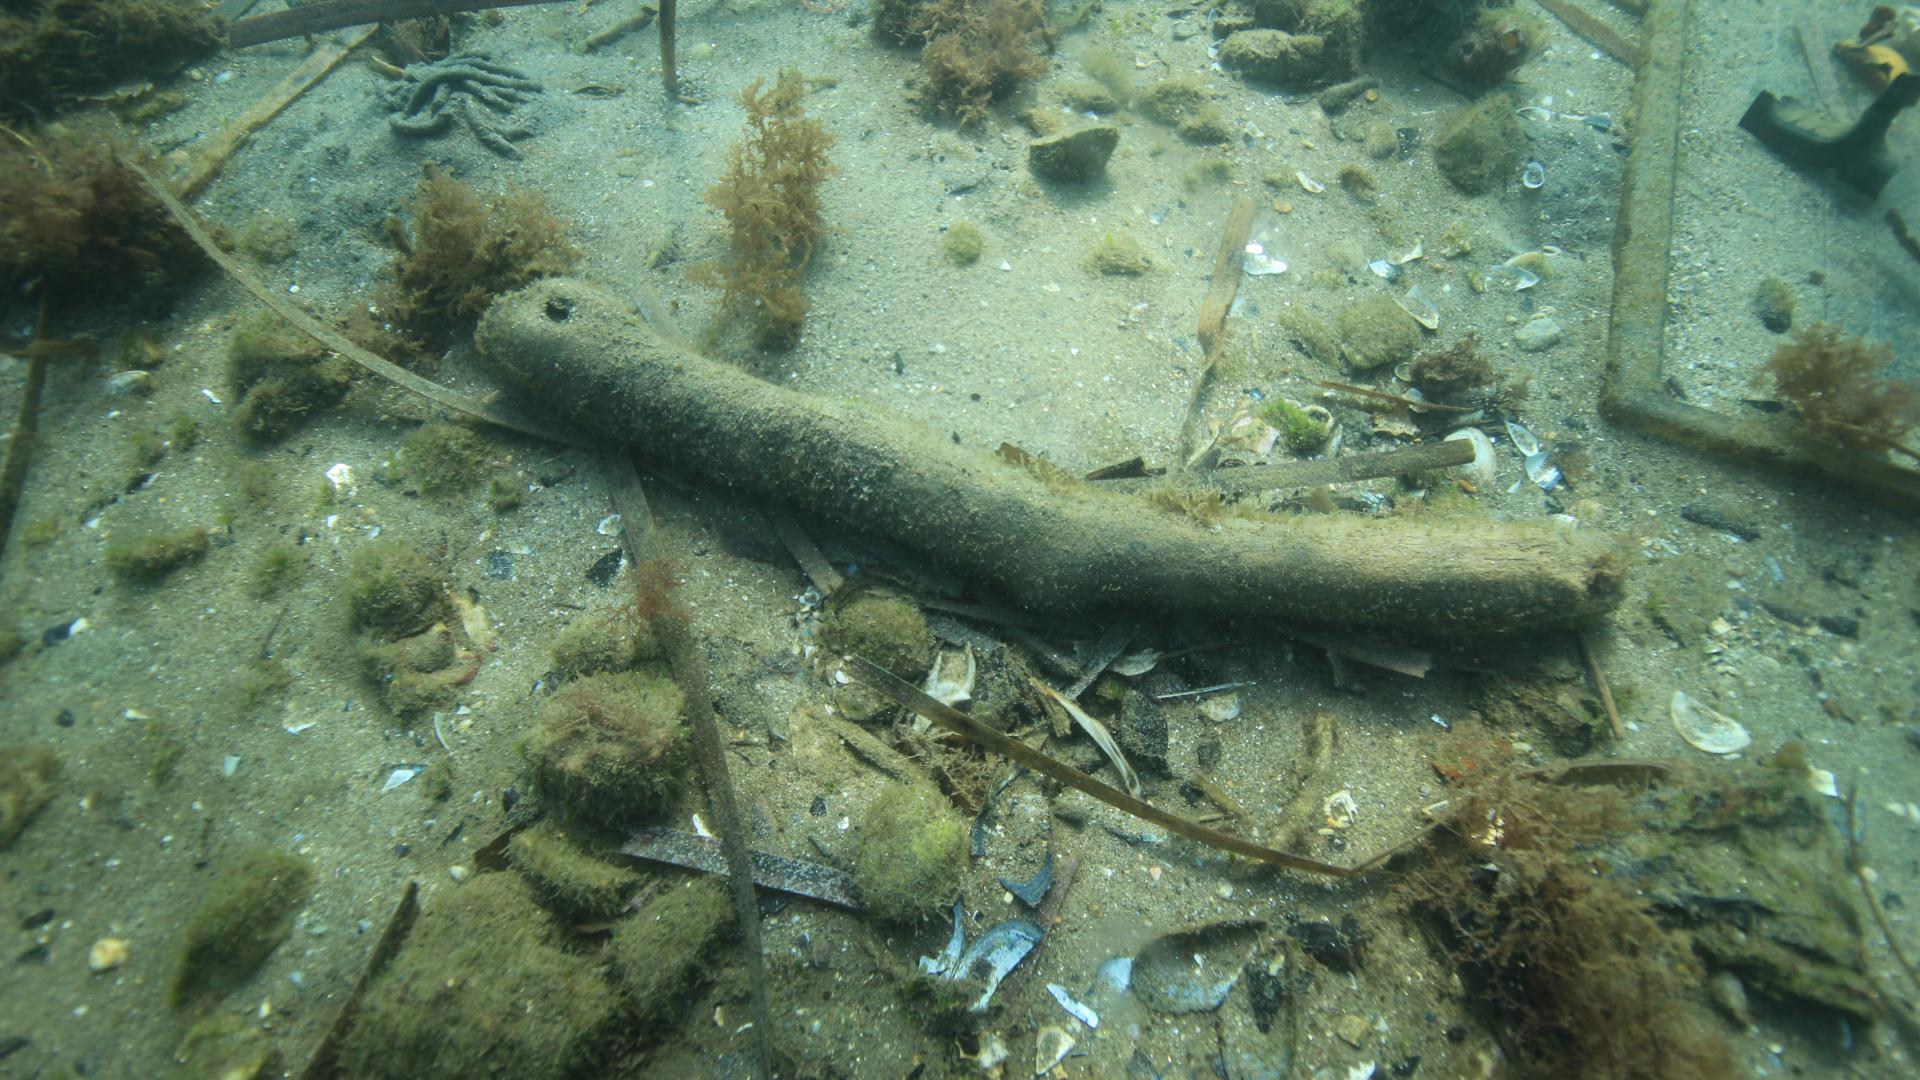wood: (475, 277, 1627, 640)
